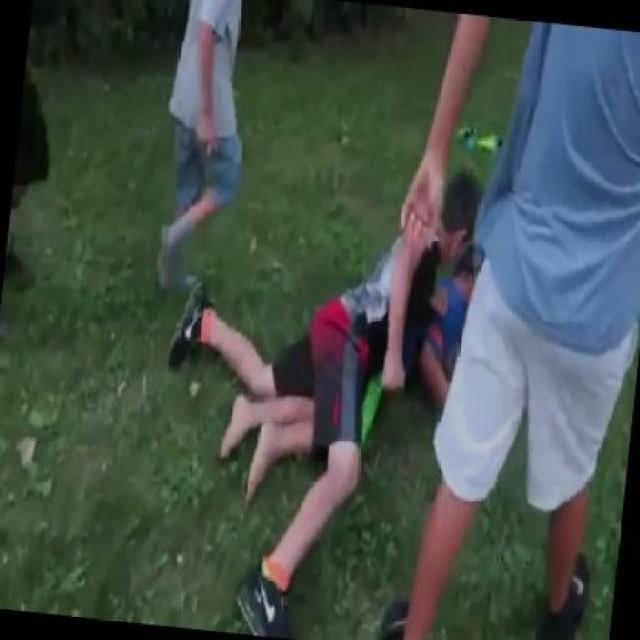fight: (141, 161, 482, 632)
